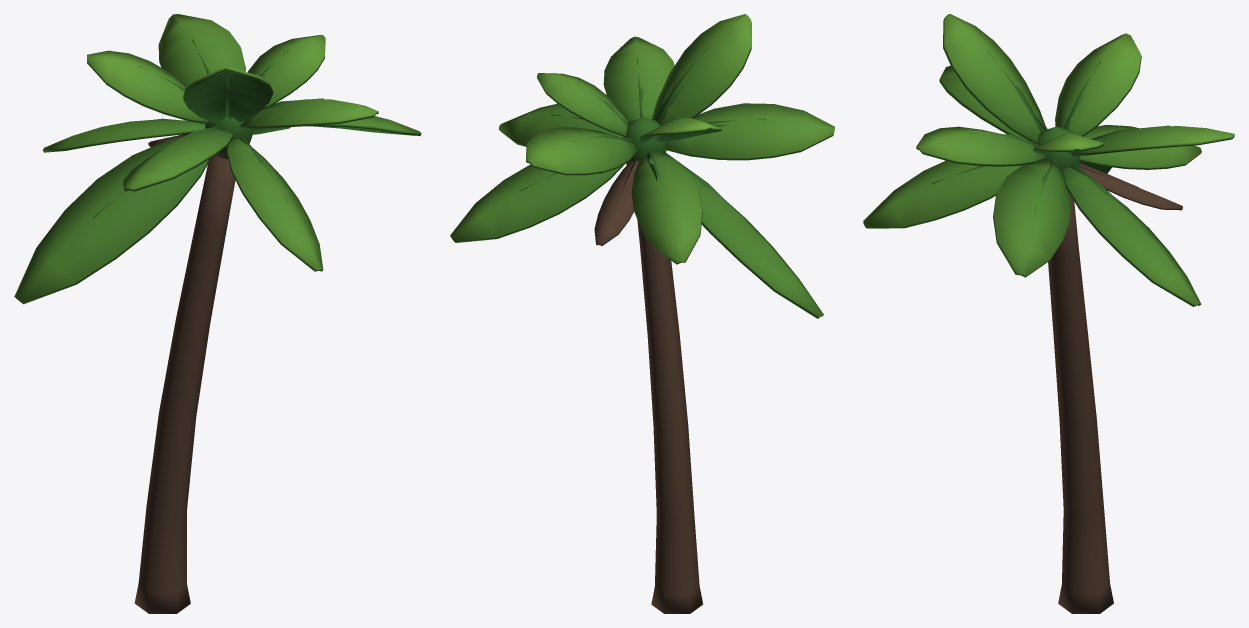
Rendered from fanpalm.lod1.glb.
3 renders of one model, left to right at view 1: azimuth 30°, elevation 25°; view 2: azimuth 150°, elevation 25°; view 3: azimuth 270°, elevation 25°, orthographic. The views are drawn at different scales.
Parts seen in each view (by area): view 1: fanpalm_s1_lod1; view 2: fanpalm_s1_lod1; view 3: fanpalm_s1_lod1.
Part boxes in pixels (box(x1,y1,x2,y2)): fanpalm_s1_lod1: box(14, 14, 421, 613); fanpalm_s1_lod1: box(450, 14, 834, 613); fanpalm_s1_lod1: box(863, 14, 1234, 613).
Bounding box in the file's own units: 6.58 × 9.85 × 5.65.
